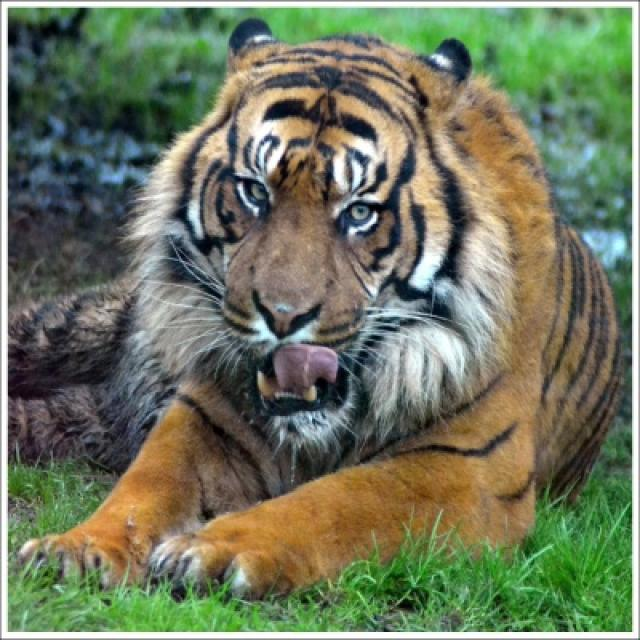Tiger: (10, 19, 619, 597)
